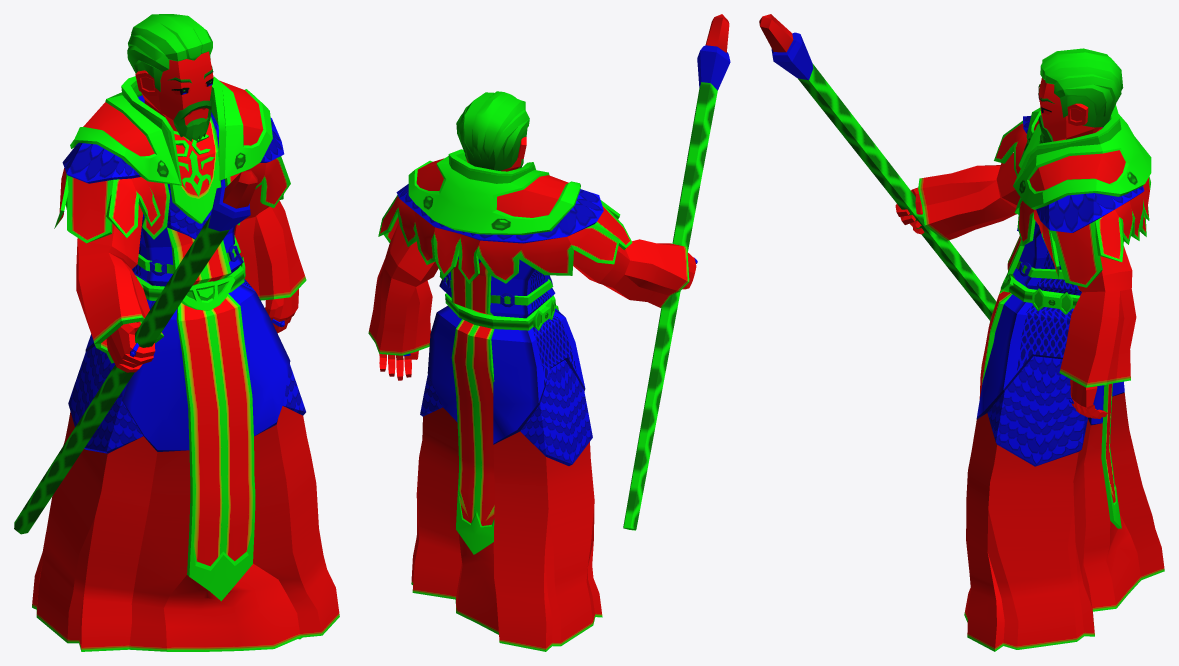
Rendered from M_Sorcerer_prePosed.fbx.
The picture shows the model from 3 angles, left to right: view 1: azimuth 30°, elevation 25°; view 2: azimuth 150°, elevation 25°; view 3: azimuth 270°, elevation 25°; orthographic projection. The views are drawn at different scales.
Visible parts, largest first — view 1: M_Sorcerer_prePosed; view 2: M_Sorcerer_prePosed; view 3: M_Sorcerer_prePosed.
Boxes of the visible parts, x1=… form: M_Sorcerer_prePosed: x1=14, y1=14, x2=339, y2=651; M_Sorcerer_prePosed: x1=368, y1=14, x2=730, y2=651; M_Sorcerer_prePosed: x1=759, y1=14, x2=1164, y2=651.
Size of the model in its own units: 107 by 203 by 137.
